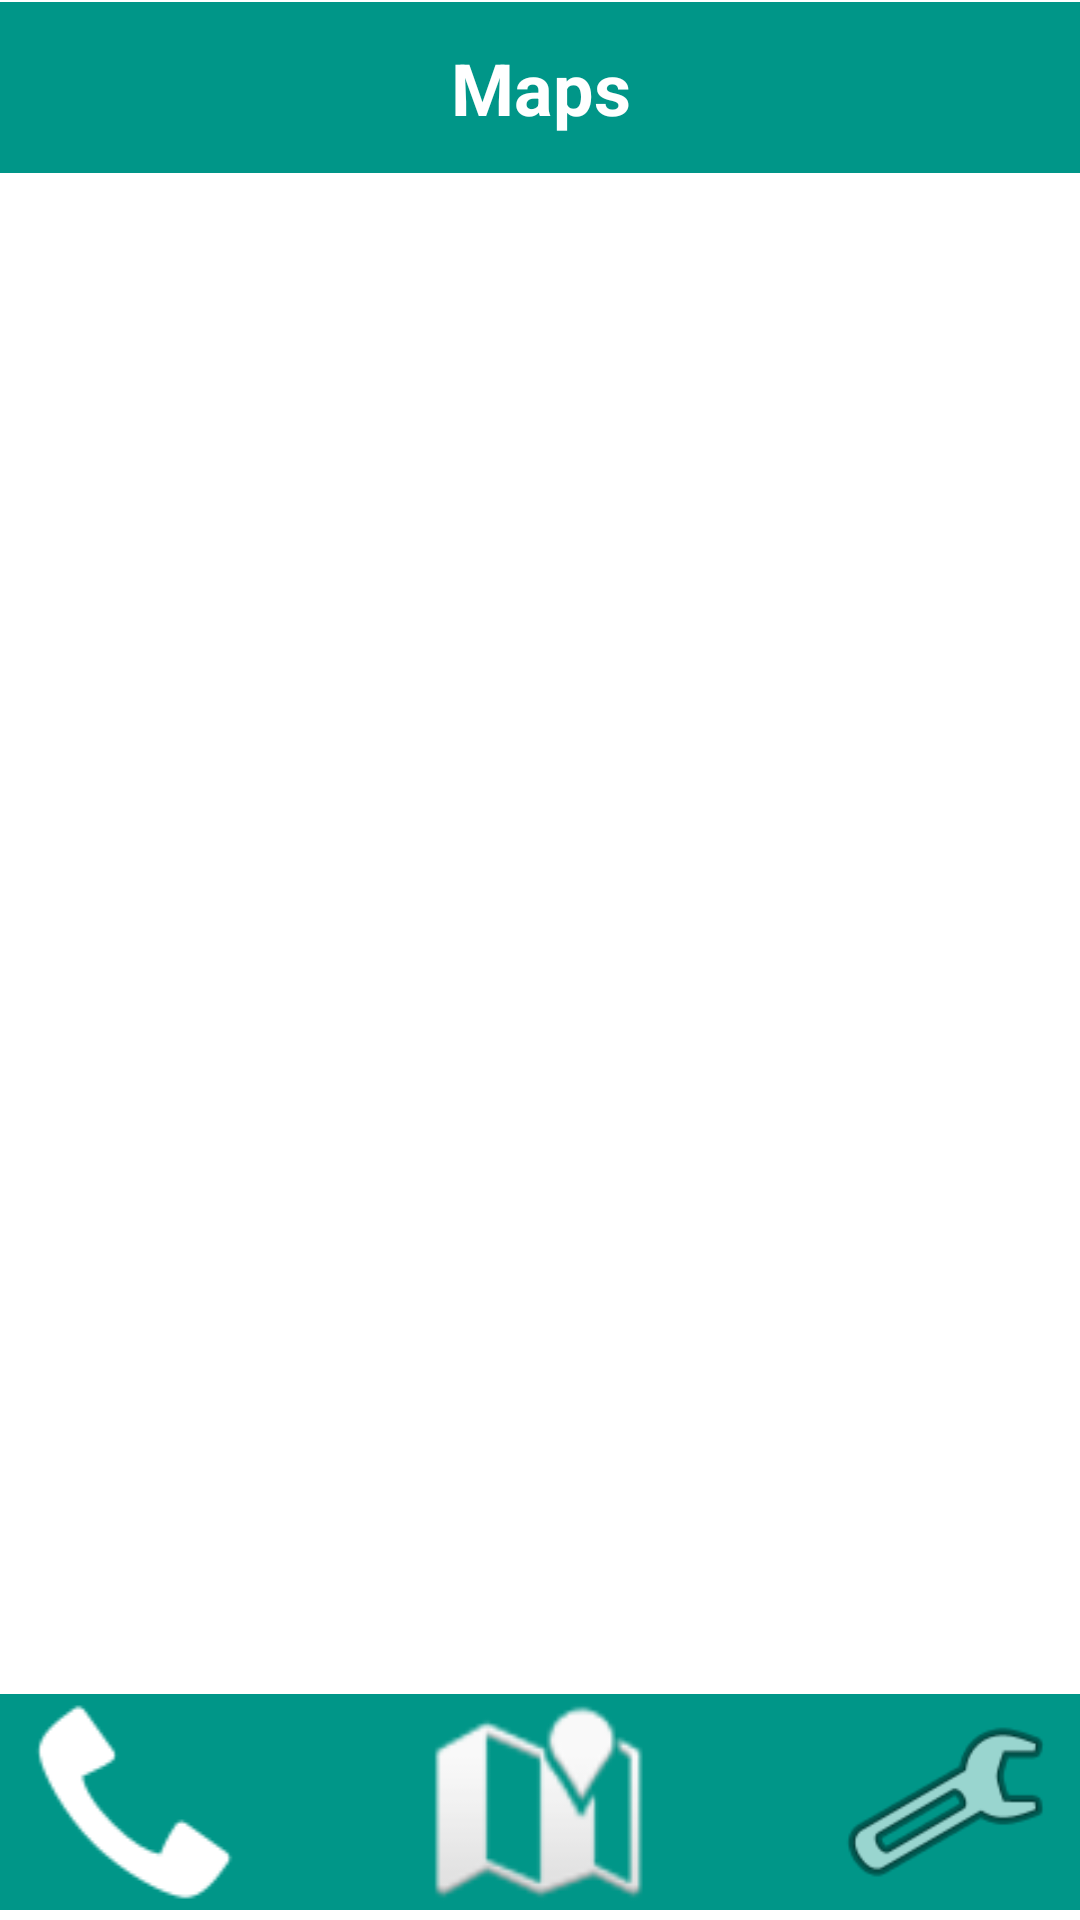

Icons on this 1080 × 1920 Android screen, each with its box as [x1, y1, x2, y2]:
Map Button: [435, 1706, 643, 1897]
